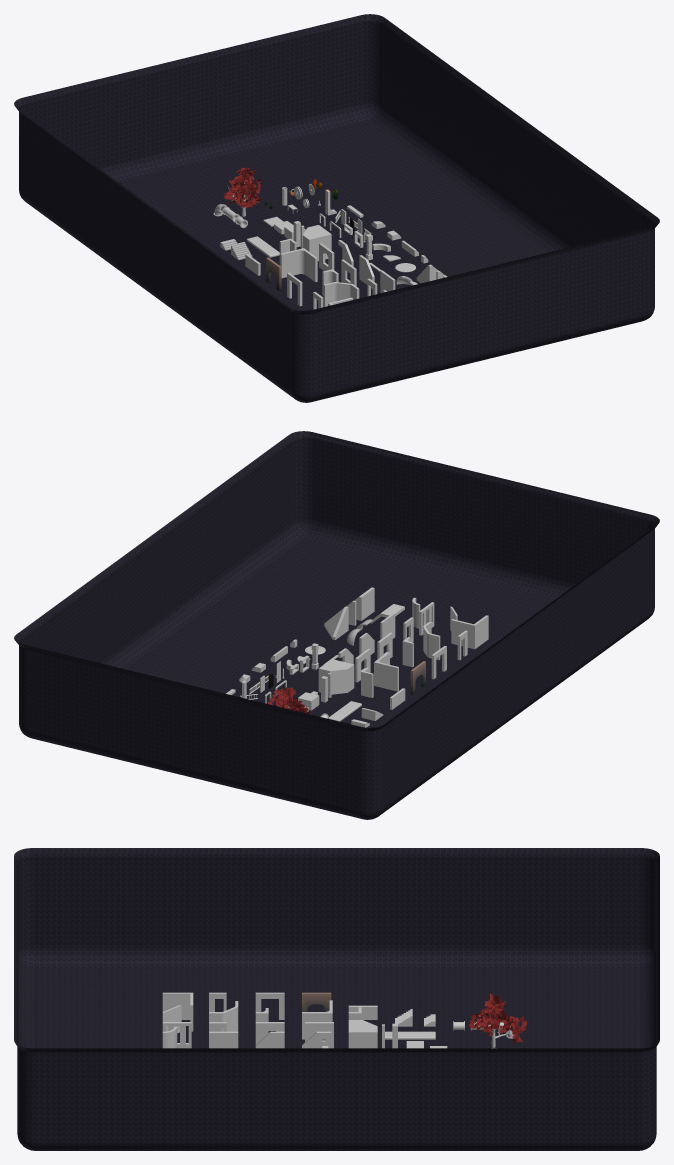
Rendered from Kit.fbx.
The picture shows the model from 3 angles, top to bottom: view 1: azimuth 30°, elevation 25°; view 2: azimuth 150°, elevation 25°; view 3: azimuth 270°, elevation 25°; orthographic projection. The views are drawn at different scales.
Visible parts, largest first — view 1: BG_110m, Tree_Leaves, Wall_Corner_Round_5m, Wall_Bevel_5m, Wall_Corner_5m; view 2: BG_110m, Wall_Bevel_5m, Wall_Corner_Sharp_5m, Wall_Corner_Round_5m, Tree_Leaves; view 3: BG_110m, Tree_Leaves, Wall_Bevel_5m, Wall_Corner_Sharp_5m, Wall_Corner_5m, Wall_5m, Wall_Corner_Round_5m, Wall_Door_Round_5m, Wall_Window_Bevel_5m.
Part boxes in pixels (bbox=[...]): BG_110m: bbox=[14, 14, 659, 402]; Tree_Leaves: bbox=[223, 167, 261, 207]; Wall_Corner_Round_5m: bbox=[280, 248, 317, 282]; Wall_Bevel_5m: bbox=[302, 225, 331, 261]; Wall_Corner_5m: bbox=[323, 282, 359, 306]; BG_110m: bbox=[14, 431, 659, 819]; Wall_Bevel_5m: bbox=[318, 659, 354, 694]; Wall_Corner_Sharp_5m: bbox=[451, 615, 488, 649]; Wall_Corner_Round_5m: bbox=[374, 652, 398, 691]; Tree_Leaves: bbox=[267, 687, 310, 713]; BG_110m: bbox=[14, 848, 659, 1150]; Tree_Leaves: bbox=[469, 993, 526, 1043]; Wall_Bevel_5m: bbox=[348, 1020, 377, 1048]; Wall_Corner_Sharp_5m: bbox=[162, 992, 193, 1031]; Wall_Corner_5m: bbox=[209, 1001, 238, 1031]; Wall_5m: bbox=[209, 1031, 238, 1048]; Wall_Corner_Round_5m: bbox=[302, 1000, 332, 1039]; Wall_Door_Round_5m: bbox=[302, 992, 331, 1011]; Wall_Window_Bevel_5m: bbox=[305, 1022, 333, 1048].
Size of the model in its own units: 11118 by 2102 by 8156.
